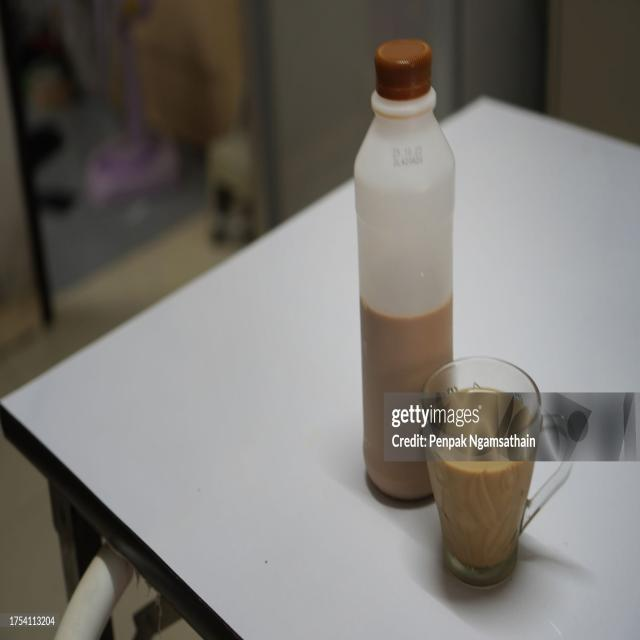bottle: (355, 34, 458, 502)
